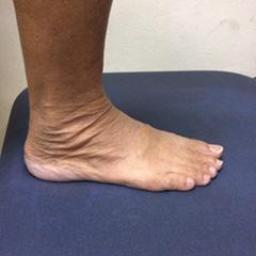Lateral View -Right Foot-: (17, 72, 232, 202)
